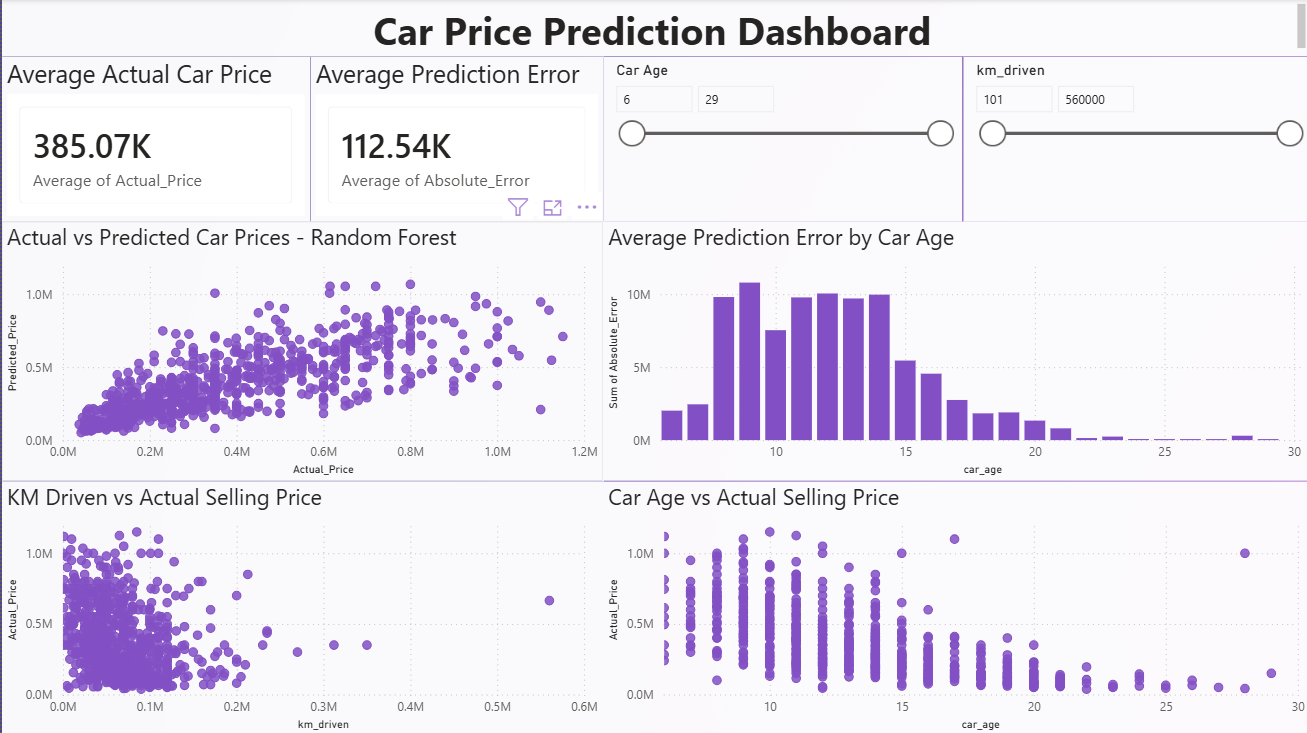

The dashboard page shown, as its layout file describes it:
{"tool":"powerbi","page":{"name":"Page 1","canvas":[1280,720],"ordinal":0},"visuals":[{"type":"textbox","box":[0,0,1280.3,56.3],"z":0},{"type":"cardVisual","title":"Average Actual Car Price","fields":{"Data":["Avg(Car_Price_PowerBI.Actual_Price)"]},"box":[0,56.3,301.9,161.9],"z":1000},{"type":"cardVisual","title":"Average Prediction Error","fields":{"Data":["Avg(Car_Price_PowerBI.Absolute_Error)"]},"box":[301.9,56.3,286.8,161.9],"z":2000},{"type":"scatterChart","title":"Actual vs Predicted Car Prices - Random Forest","fields":{"X":["Car_Price_PowerBI.Actual_Price"],"Y":["Car_Price_PowerBI.Predicted_Price"]},"box":[0,218.2,588.7,253.9],"z":3000},{"type":"scatterChart","title":"Car Age vs Actual Selling Price","fields":{"X":["Car_Price_PowerBI.car_age"],"Y":["Car_Price_PowerBI.Actual_Price"]},"box":[588.7,472,691.6,248.4],"z":4000},{"type":"scatterChart","title":"KM Driven vs Actual Selling Price","fields":{"X":["Car_Price_PowerBI.km_driven"],"Y":["Car_Price_PowerBI.Actual_Price"]},"box":[0,472,588.7,248.4],"z":5000},{"type":"clusteredColumnChart","title":"Average Prediction Error by Car Age","fields":{"Category":["Car_Price_PowerBI.car_age"],"Y":["Sum(Car_Price_PowerBI.Absolute_Error)"]},"box":[588.7,218.2,691.6,253.9],"z":6000},{"type":"slicer","fields":{"Values":["Car_Price_PowerBI.car_age"]},"box":[588.7,56.3,351.3,161.9],"z":7000},{"type":"slicer","fields":{"Values":["Car_Price_PowerBI.km_driven"]},"box":[940,56.3,340.3,161.9],"z":8000}]}

Visuals, with their boxes in screenshot pixels (x1, y1, x2, y2), scaled from the page's 1280x720 canvas onto the 1307x733 screenshot:
textbox: 0:0:1306:57
"Average Actual Car Price" cardVisual: 0:57:308:222
"Average Prediction Error" cardVisual: 308:57:601:222
"Actual vs Predicted Car Prices - Random Forest" scatterChart: 0:222:601:481
"Car Age vs Actual Selling Price" scatterChart: 601:481:1306:732
"KM Driven vs Actual Selling Price" scatterChart: 0:481:601:732
"Average Prediction Error by Car Age" clusteredColumnChart: 601:222:1306:481
slicer - Car_Price_PowerBI.car_age: 601:57:960:222
slicer - Car_Price_PowerBI.km_driven: 960:57:1306:222
